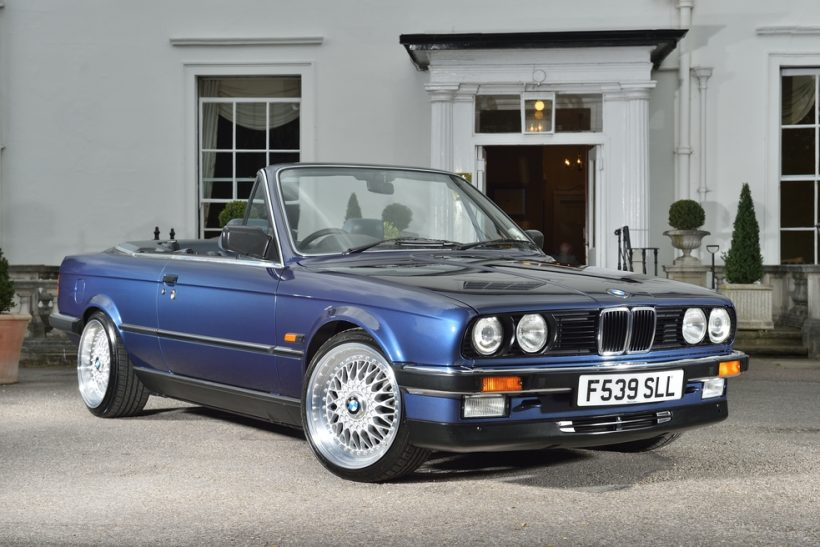car: (46, 162, 748, 485)
